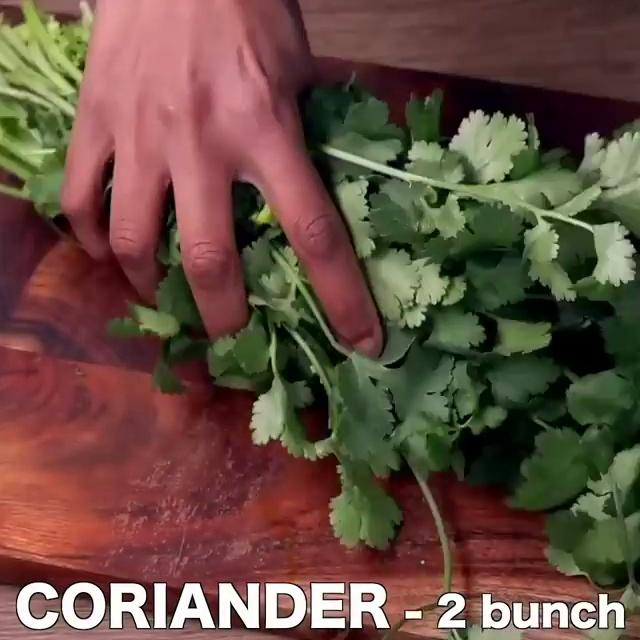cilantro: (387, 124, 640, 580)
